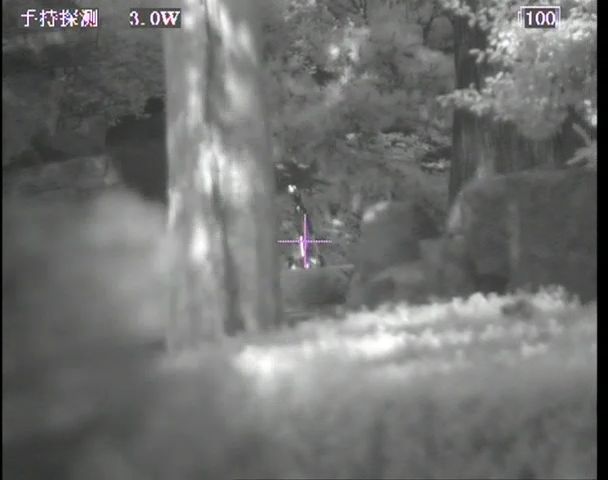my: (285, 182, 299, 197)
